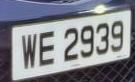2: (62, 22, 81, 67)
3: (96, 20, 111, 59)
9: (79, 22, 96, 62), (110, 18, 125, 57)
E: (37, 27, 57, 68)
W: (20, 29, 39, 74)
